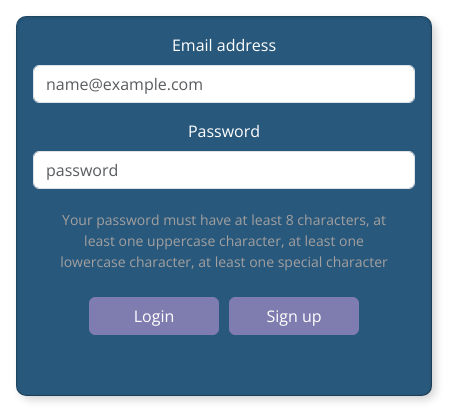
Test case: Login Component › should render error message for invalid email format
The image size is (456, 420).
Type "invalidEmail" into the field with placeholder "name@example.com" at (224, 84), box [33,65,415,103]
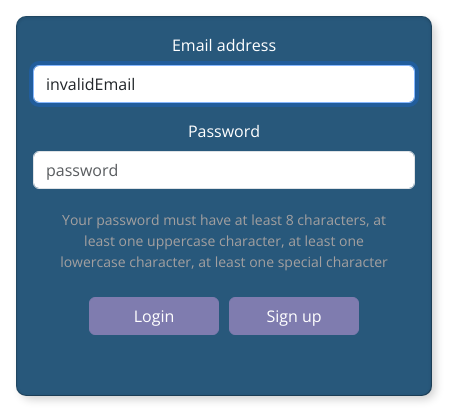
Type "Password123!" into the password field with placeholder "Password" at (224, 170), box [33,151,415,189]
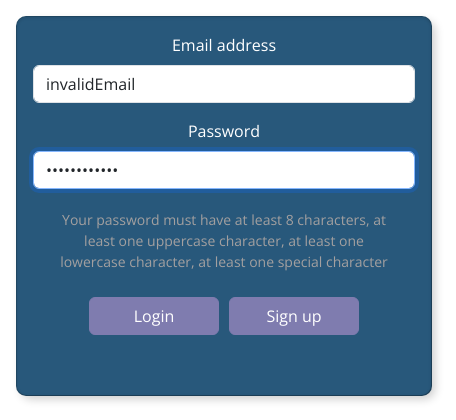
Click the button "Sign up" at (294, 316), box [229,297,359,335]
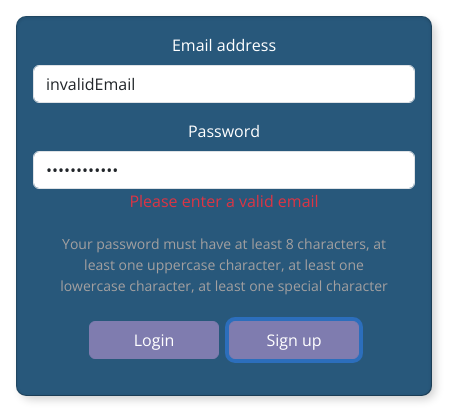
Result: the text "Please enter a valid email" is shown at [129,190,319,212]
